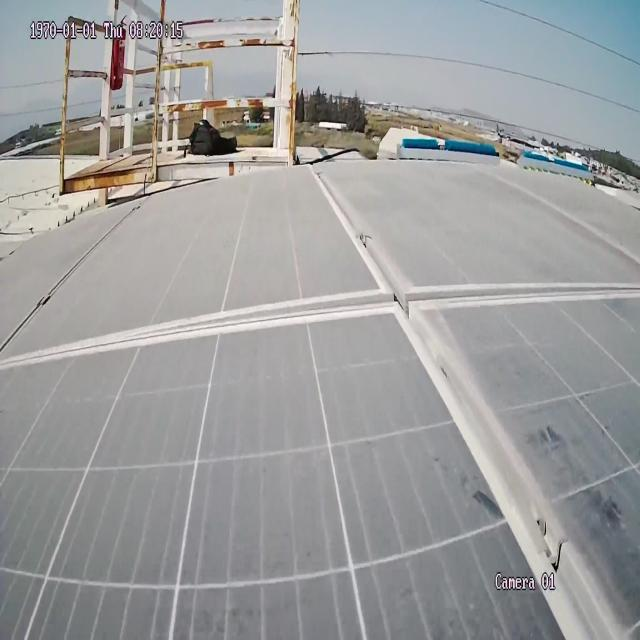interior panel: (0, 157, 640, 640)
